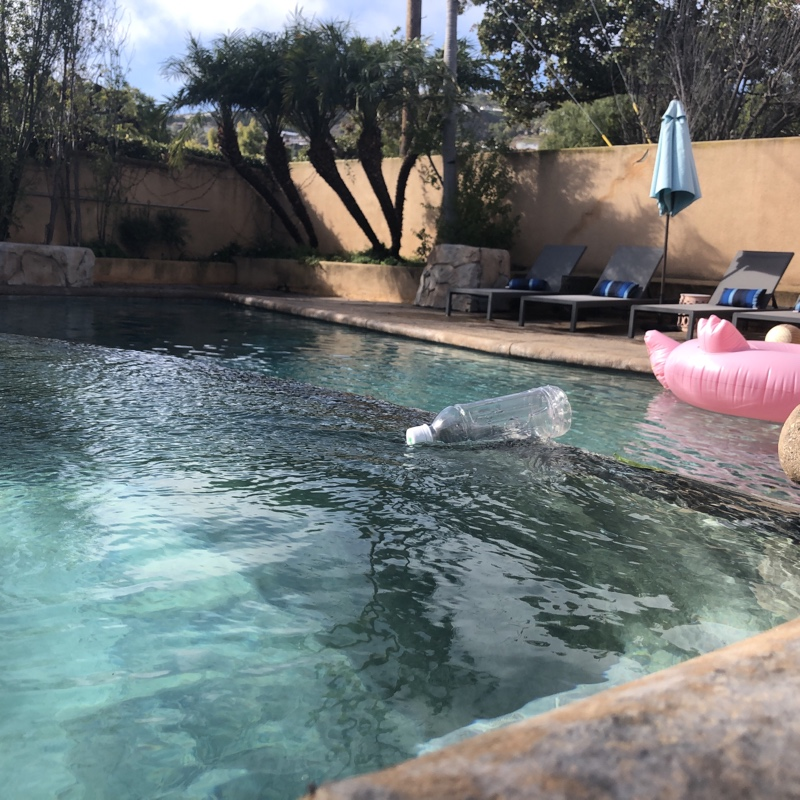Plastic Bottle: (401, 380, 576, 451)
